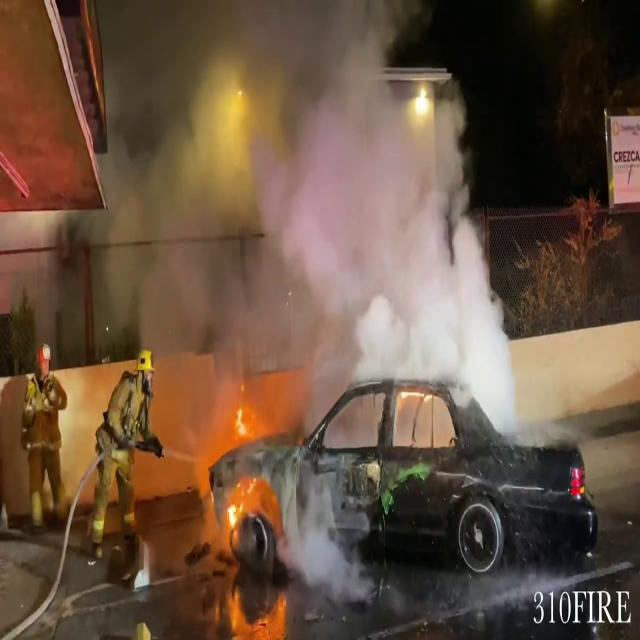Fire: (218, 582, 292, 638)
Smoke: (84, 0, 518, 419)
